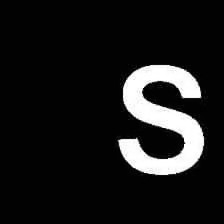LTR_S: (113, 56, 209, 183)
